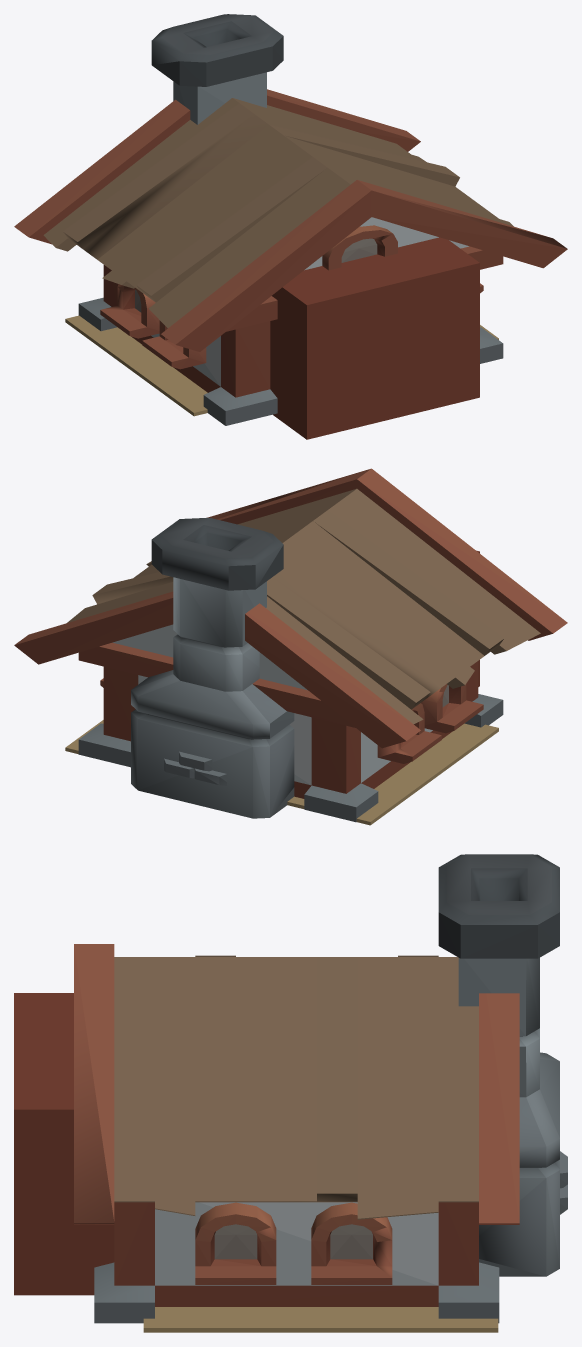
Rendered from hunter.glb.
The picture shows the model from 3 angles, top to bottom: view 1: azimuth 30°, elevation 25°; view 2: azimuth 150°, elevation 25°; view 3: azimuth 270°, elevation 25°; orthographic projection. The views are drawn at different scales.
Parts seen in each view (by area): view 1: roof_hunter, body_hunter, interior_floor; view 2: roof_hunter, body_hunter, interior_floor; view 3: roof_hunter, body_hunter, interior_floor.
Part boxes in pixels (box(x1,y1,x2,y2)): roof_hunter: box(14, 14, 567, 351); body_hunter: box(44, 155, 513, 439); interior_floor: box(65, 315, 498, 416); roof_hunter: box(14, 468, 567, 748); body_hunter: box(67, 550, 522, 822); interior_floor: box(65, 720, 498, 825); roof_hunter: box(74, 854, 559, 1224); body_hunter: box(14, 993, 567, 1323); interior_floor: box(143, 1307, 498, 1332).
Size of the model in its own units: 238 by 148 by 211.
